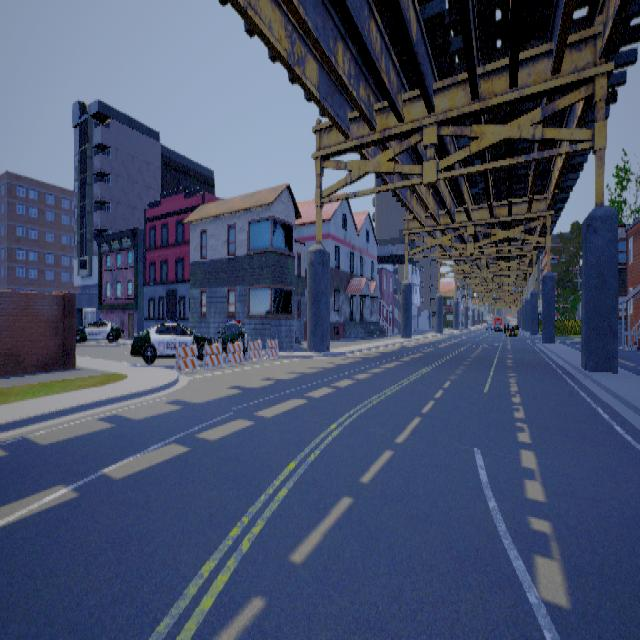vehicle: (129, 318, 247, 364), (75, 317, 124, 342)
